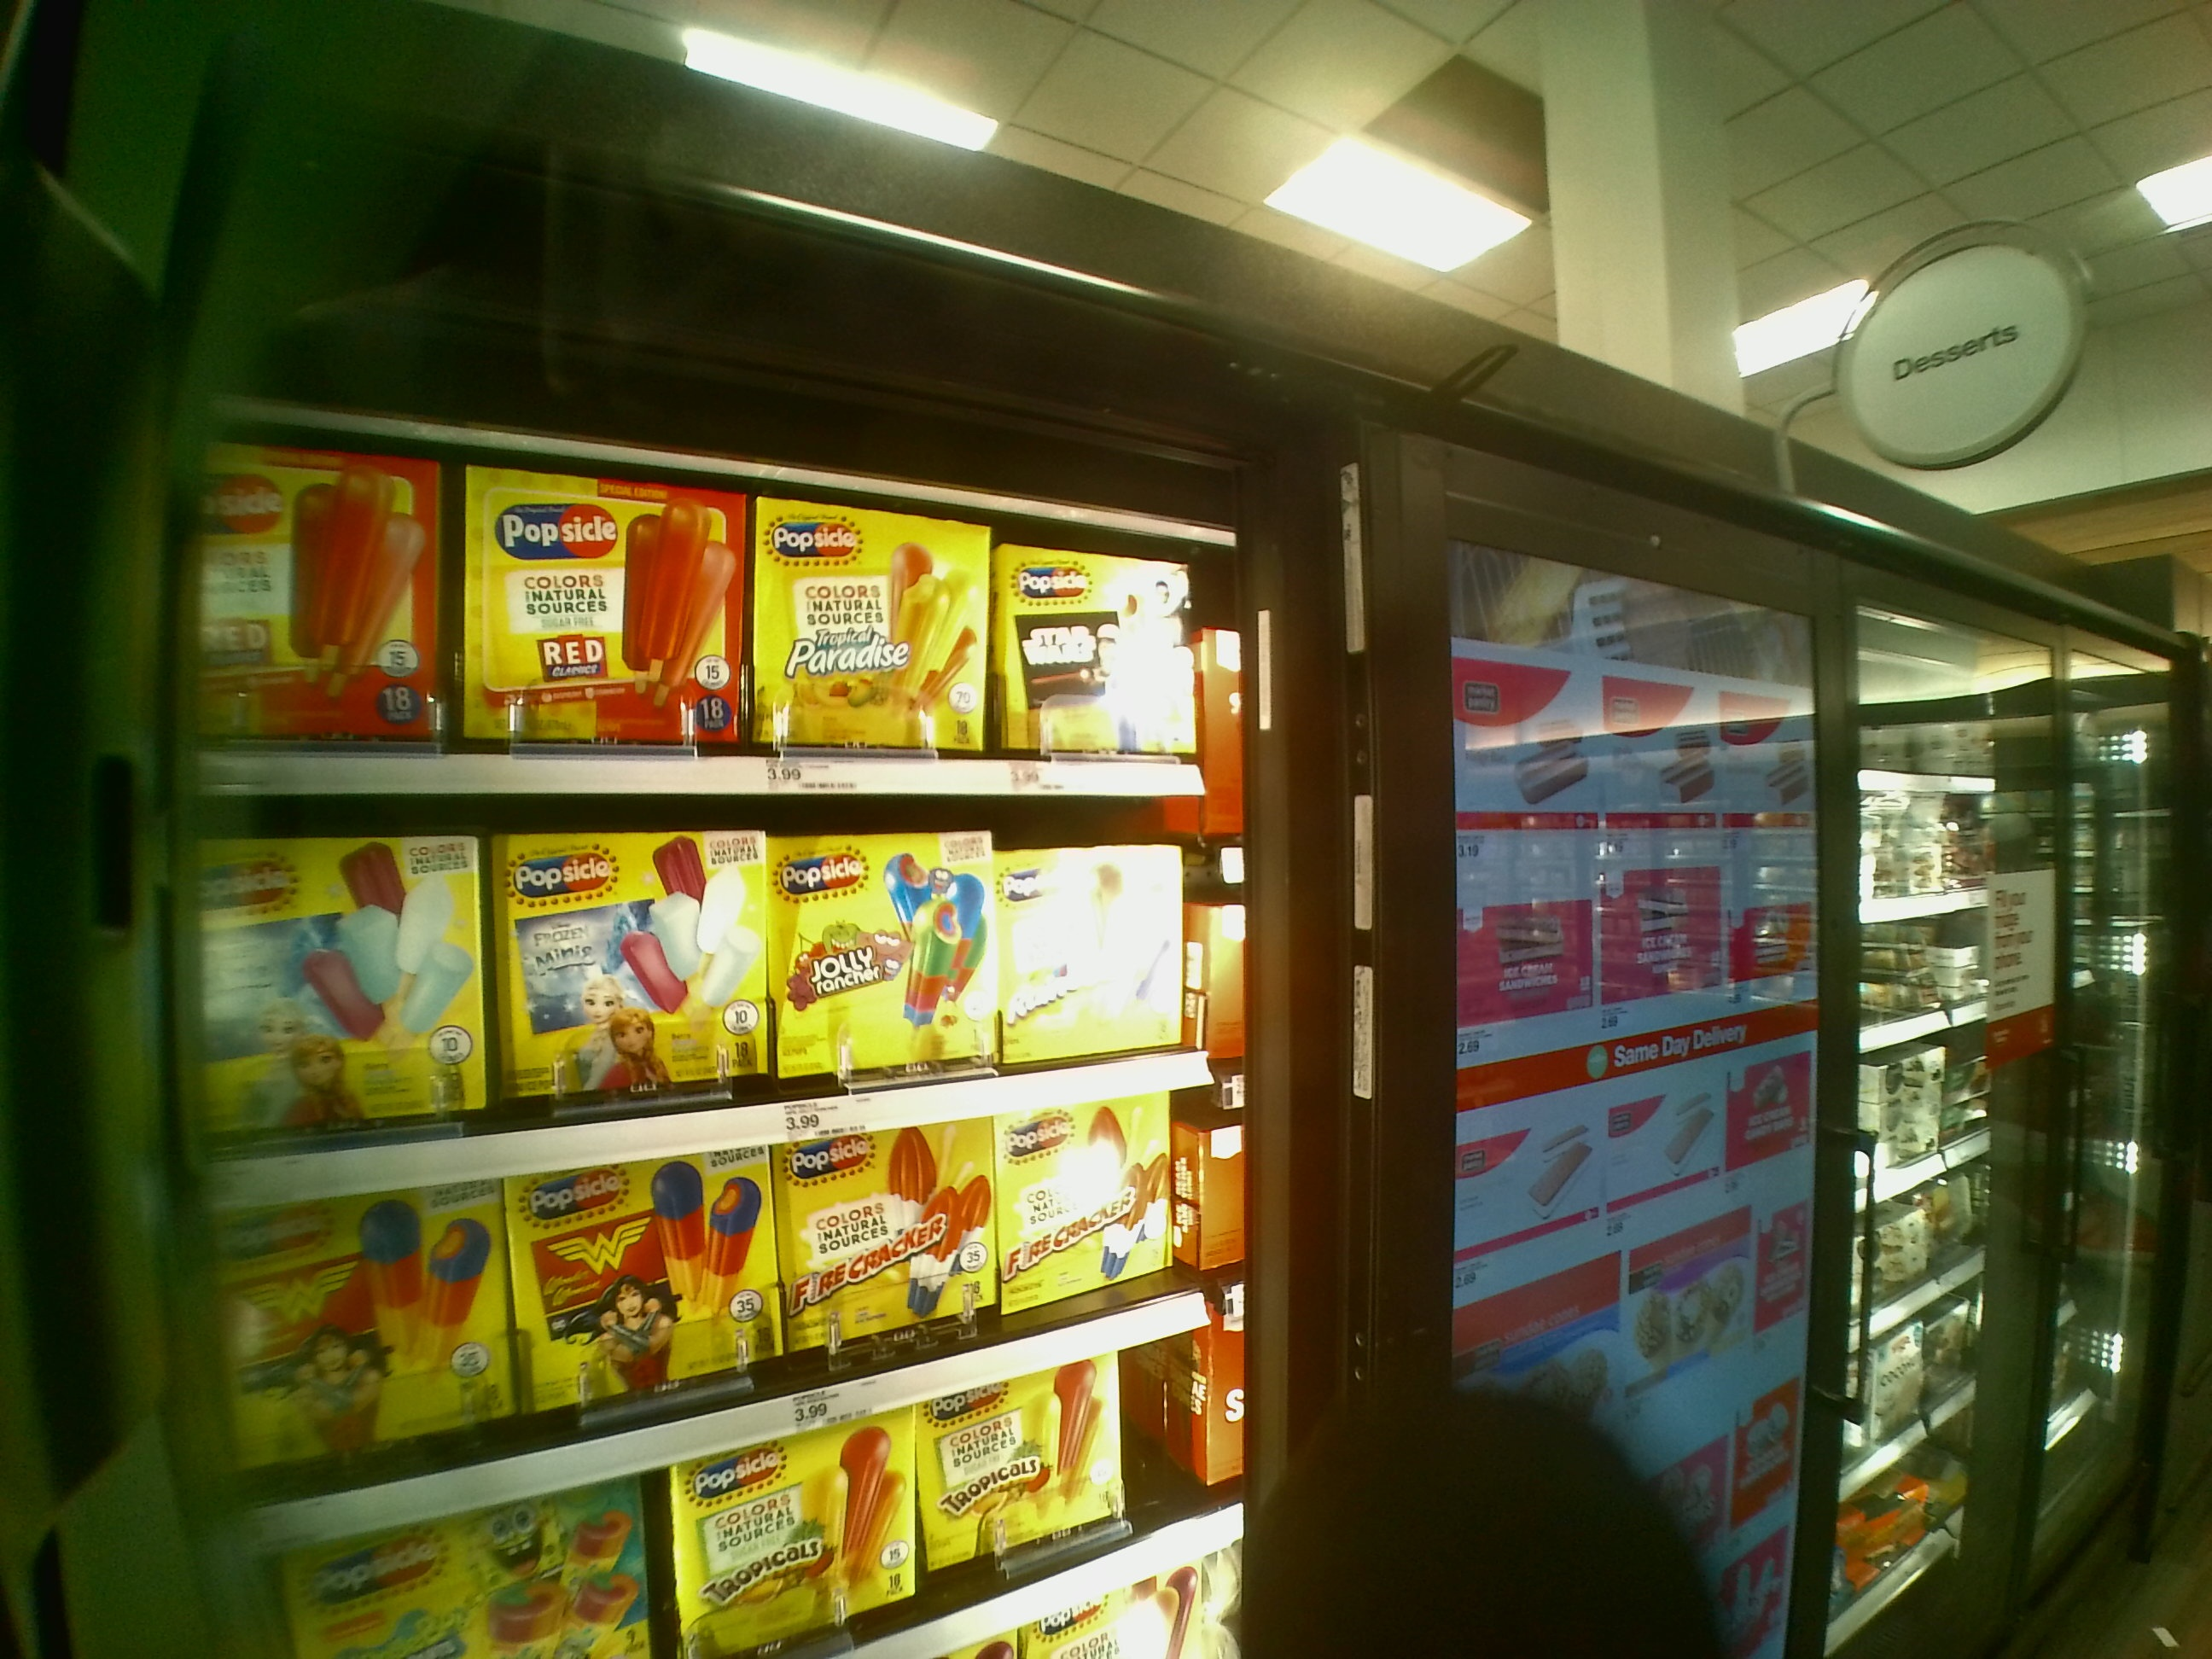shelf: (185, 418, 1231, 791), (186, 816, 1244, 1138), (214, 1126, 1261, 1443)
